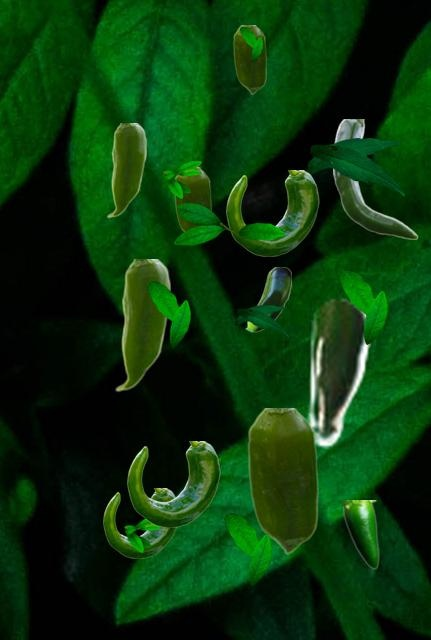green_chili: (303, 296, 374, 447), (247, 408, 317, 553), (333, 119, 417, 238), (127, 441, 219, 526), (226, 170, 318, 255), (114, 259, 169, 391), (103, 488, 177, 557), (106, 123, 145, 217), (245, 267, 290, 331), (343, 500, 378, 568), (174, 167, 210, 231), (233, 25, 265, 93)
